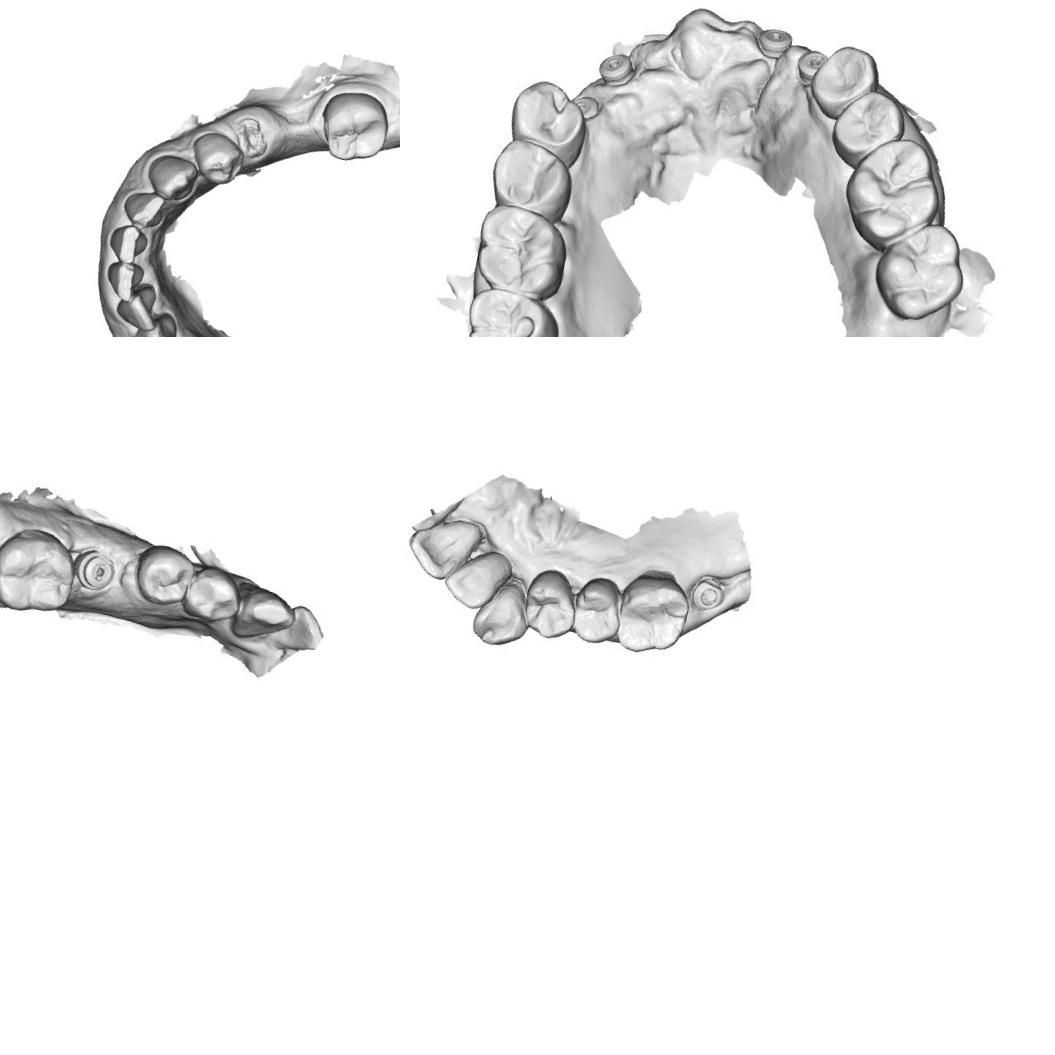canine: (467, 576, 535, 652), (228, 582, 300, 648), (141, 148, 203, 206), (127, 306, 186, 337)
implant: (594, 46, 648, 103), (752, 15, 798, 70), (790, 42, 834, 88), (686, 572, 730, 616), (565, 87, 604, 126)
implant_minus: (72, 547, 119, 595)
incisor: (402, 514, 476, 585), (442, 548, 510, 613), (264, 598, 327, 658), (112, 278, 164, 334), (117, 185, 170, 232), (104, 220, 152, 270), (100, 254, 147, 305)
molar: (834, 125, 954, 255), (863, 210, 974, 332), (464, 194, 576, 303), (608, 562, 697, 664), (0, 518, 85, 623), (312, 82, 396, 170), (455, 280, 566, 337)
premolar: (483, 130, 580, 222), (823, 80, 911, 177), (502, 74, 594, 160), (804, 35, 886, 130), (516, 564, 585, 645), (126, 539, 198, 612), (566, 571, 630, 651), (178, 560, 248, 629), (184, 126, 250, 190)
